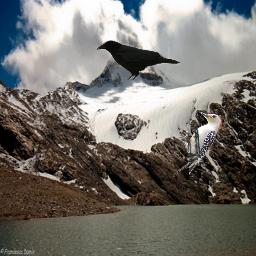Crow: (94, 38, 180, 80)
Woodpecker: (173, 110, 223, 177)
